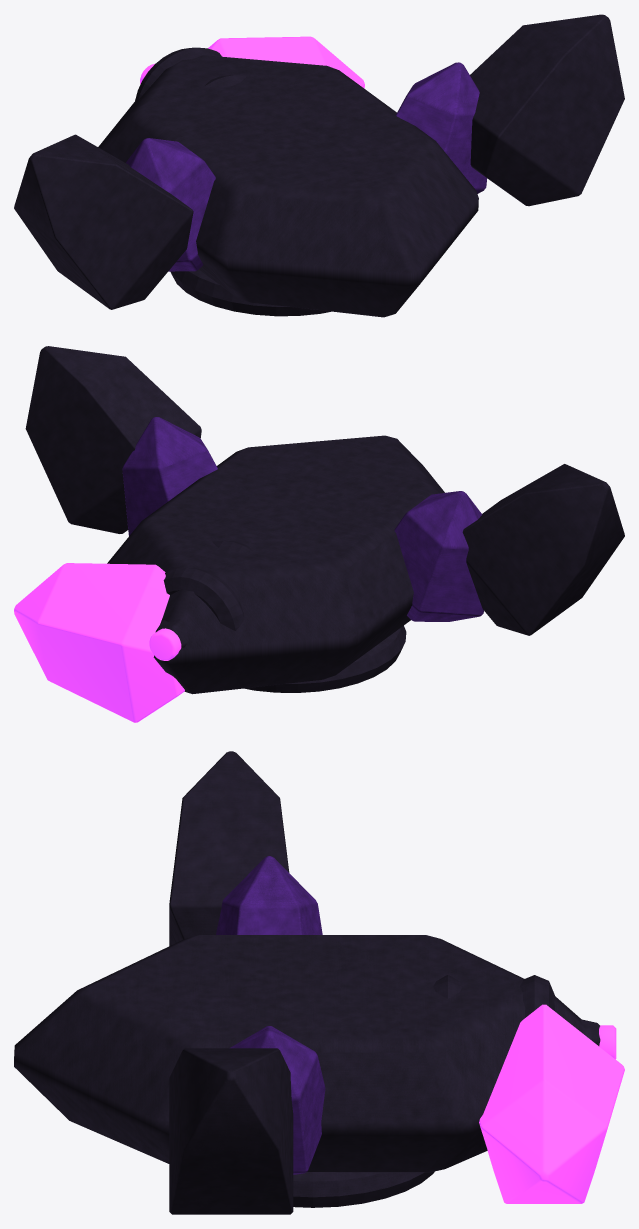
Rendered from conclave_scintille.gltf.
3 views of the same model, one above another, from view 1: azimuth 30°, elevation 25°; view 2: azimuth 150°, elevation 25°; view 3: azimuth 270°, elevation 25° (orthographic). The views are drawn at different scales.
Parts seen in each view (by area): view 1: Body.015_Geometry, GunRecoil.015_Geometry; view 2: Body.015_Geometry, GunRecoil.015_Geometry; view 3: Body.015_Geometry, GunRecoil.015_Geometry.
Part boxes in pixels (bbox=[...]): Body.015_Geometry: bbox=[14, 14, 624, 317]; GunRecoil.015_Geometry: bbox=[135, 47, 246, 102]; Body.015_Geometry: bbox=[14, 346, 624, 722]; GunRecoil.015_Geometry: bbox=[149, 540, 253, 660]; Body.015_Geometry: bbox=[14, 751, 624, 1214]; GunRecoil.015_Geometry: bbox=[433, 975, 616, 1059].
Size of the model in its own units: 2.83 by 1 by 2.25.
3 materials, 2 textured.
